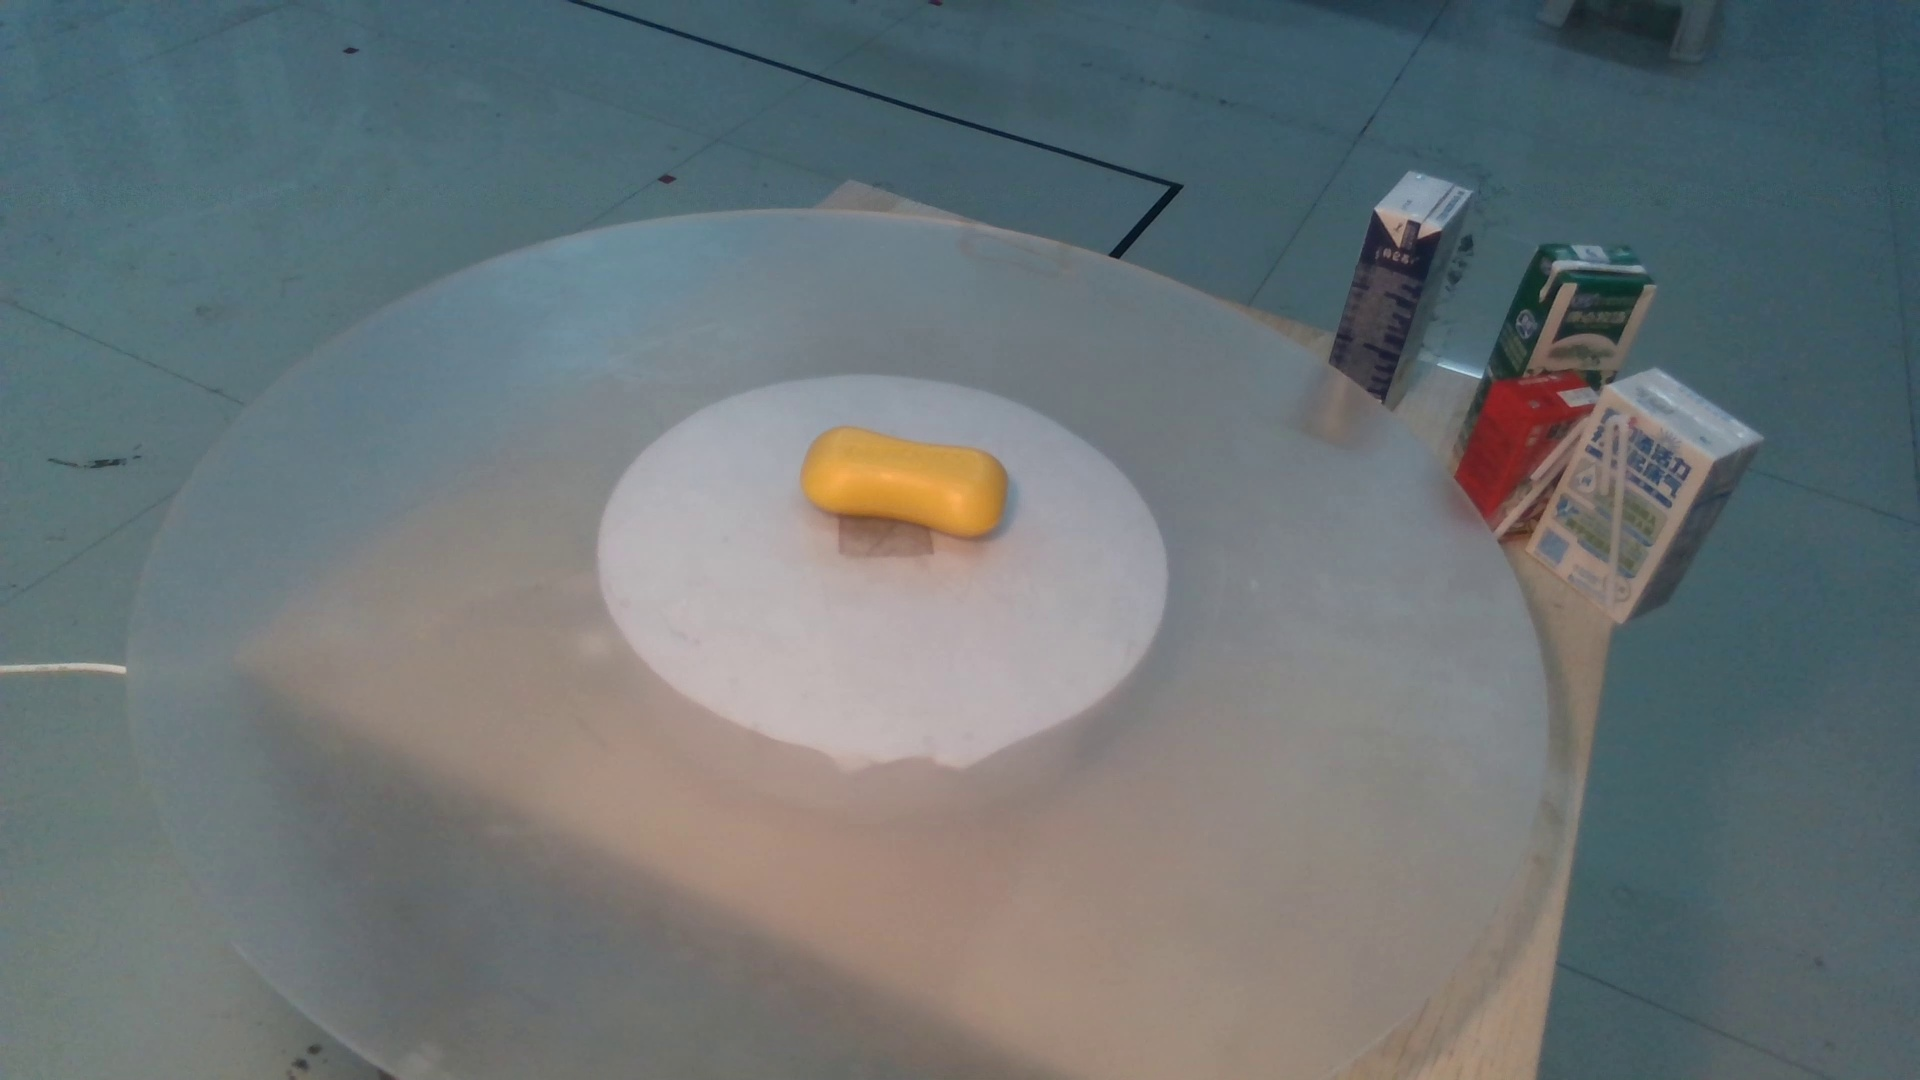CA003_1: (765, 414, 1034, 553)
